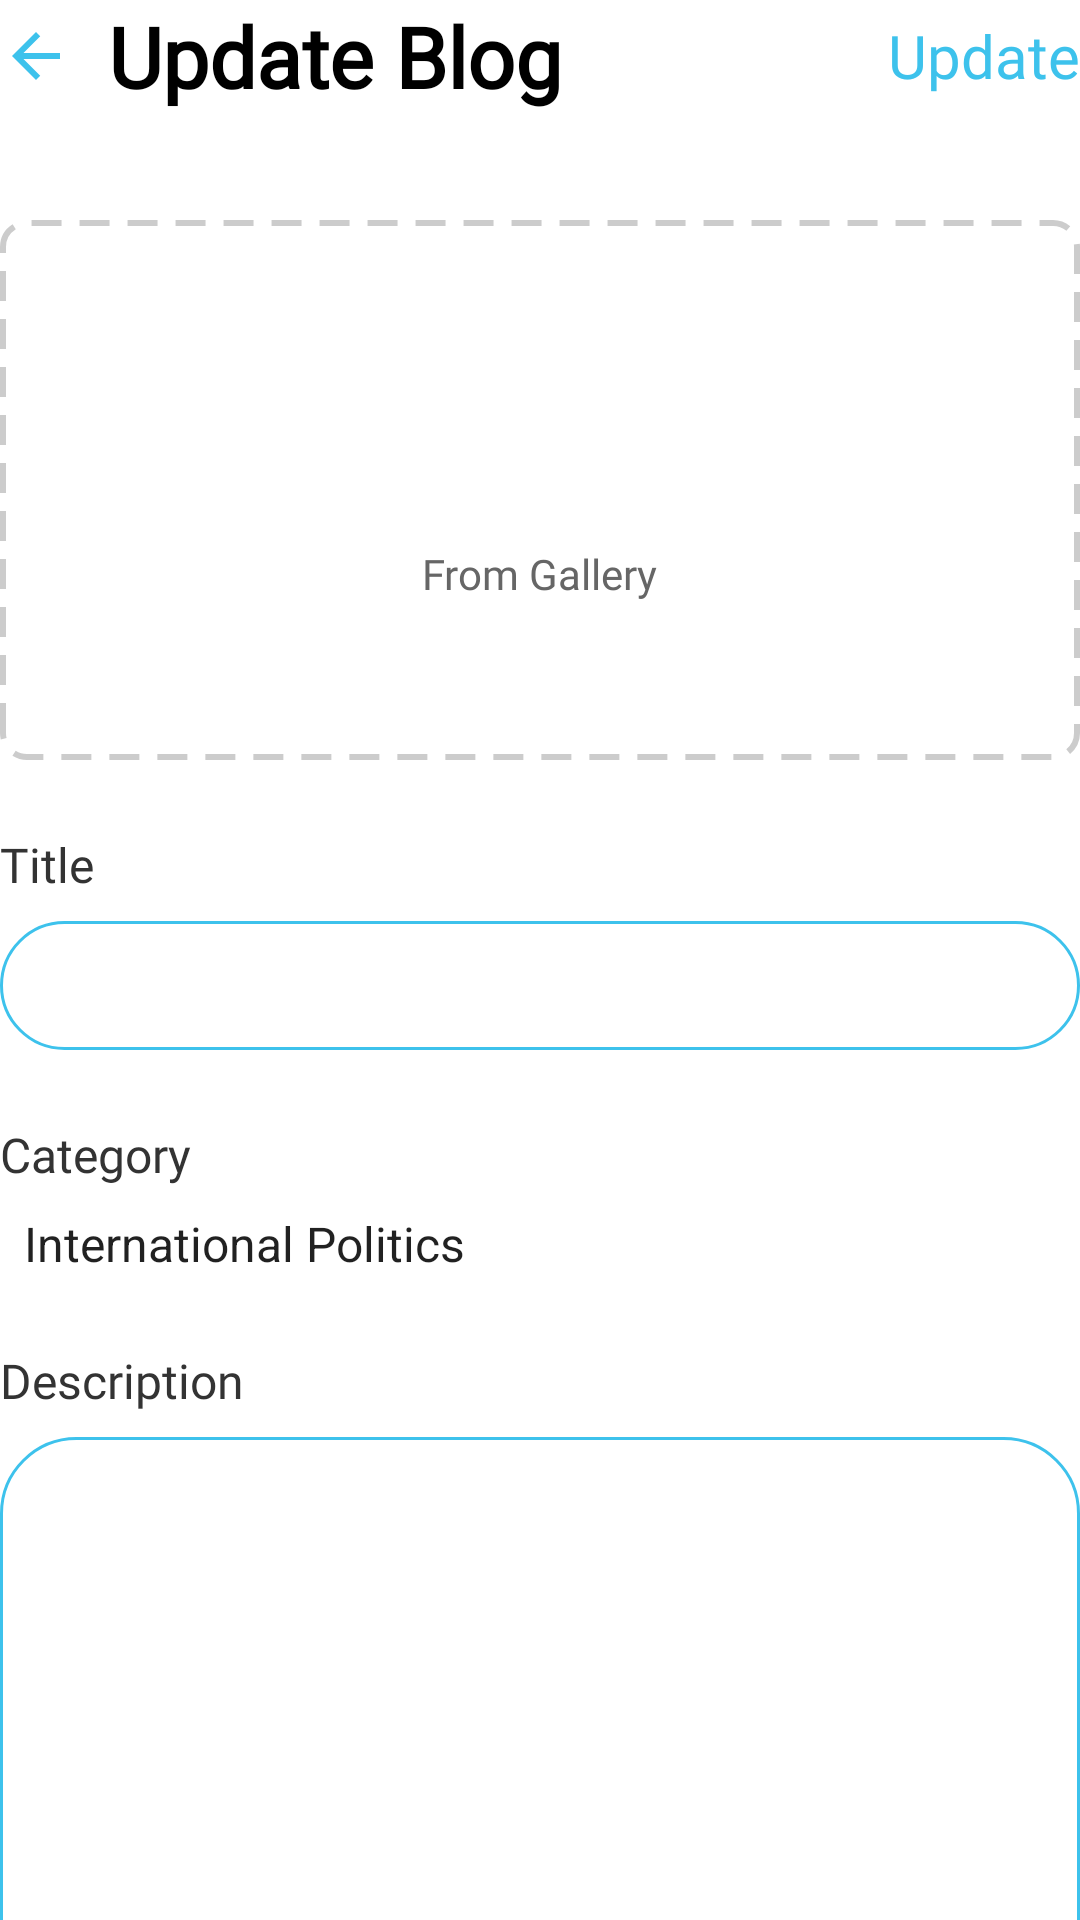

Icon click points for this 1080 x 1920 phone screenshot, format (x=x, y=y):
back: (x=36, y=56)
